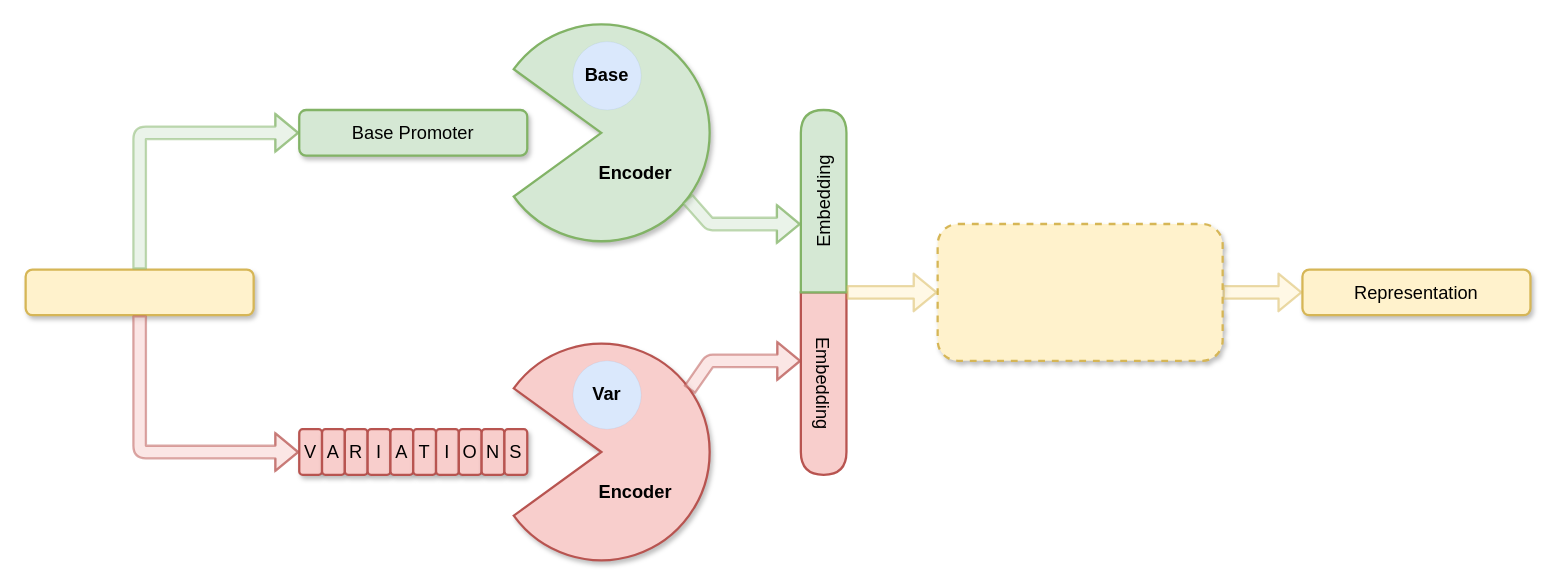
Some shapes in this 1557 by 588 pixel diagram are drawn without their labels. Each missing label, with the centre of its shape:
"Representation Decoder" goes at [1080,293].
"Synthetic Promoter" goes at [140,293].
